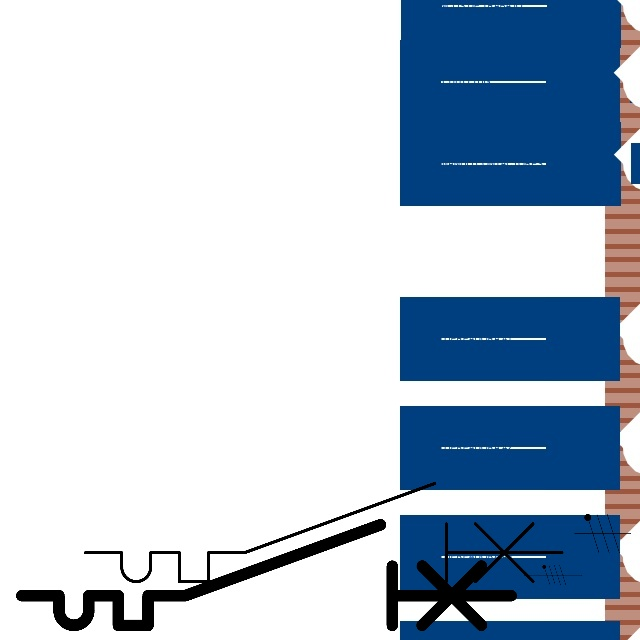interruptor_termomagnetico: (9, 512, 524, 638), (73, 471, 574, 594)
